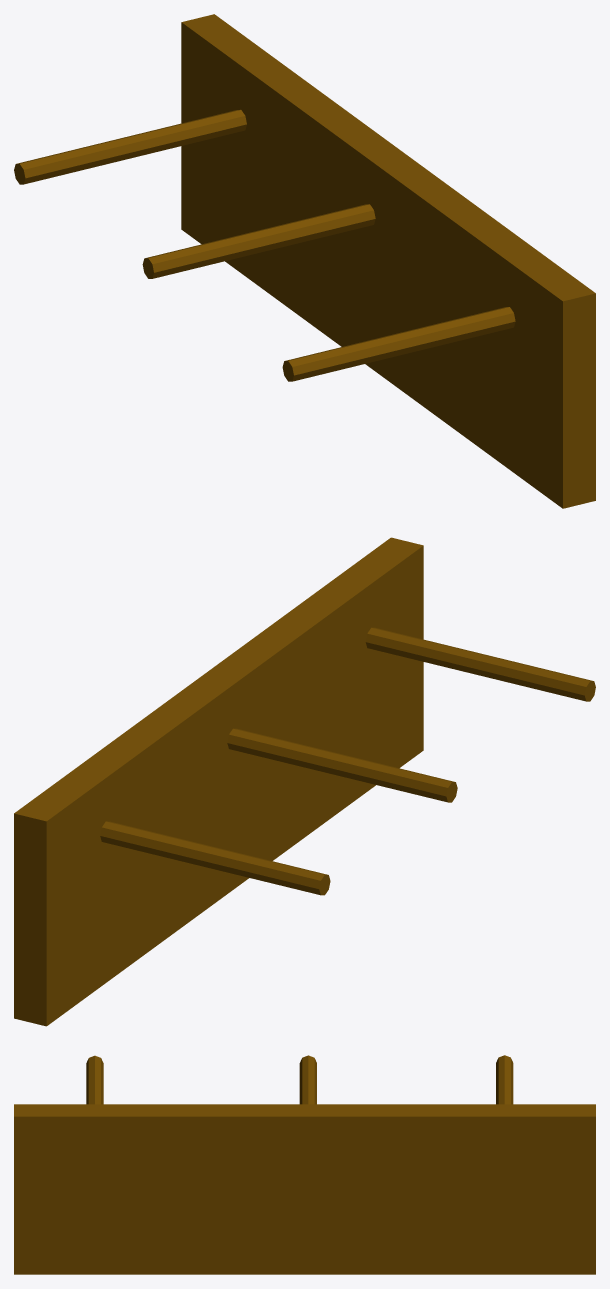
Rendered from Keyrack.fbx.
3 views of the same model, one above another, from view 1: azimuth 30°, elevation 25°; view 2: azimuth 150°, elevation 25°; view 3: azimuth 270°, elevation 25° (orthographic). The views are drawn at different scales.
Visible parts, largest first — view 1: pCylinder87; view 2: pCylinder87; view 3: pCylinder87.
Boxes of the visible parts, x1,y1,x2,y2 form: pCylinder87: (14,14,595,508); pCylinder87: (14,537,595,1026); pCylinder87: (14,1055,595,1274).
Size of the model in its own units: 0.7708 by 0.6 by 2.
